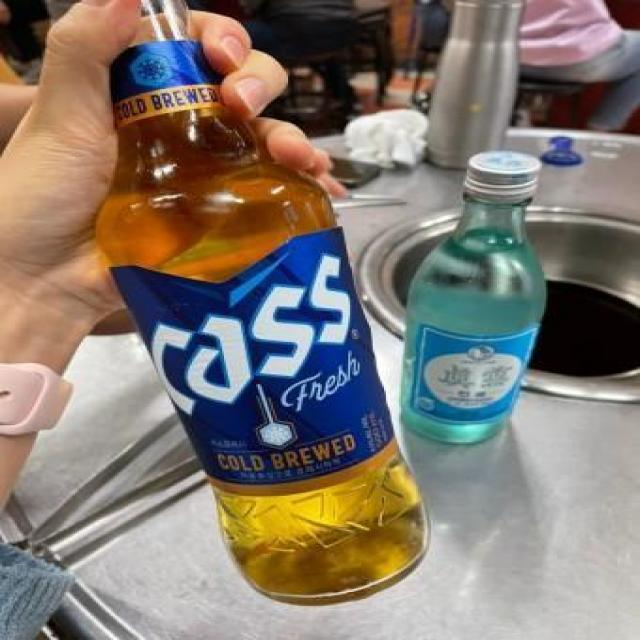beer-bottle: (86, 0, 442, 612)
soju-bottle: (396, 151, 570, 445)
